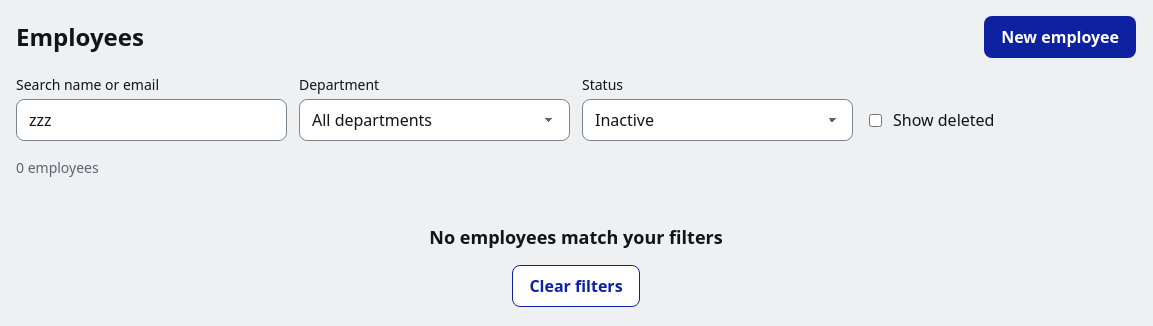
Test: EmployeesPage - empty states › shows "No employees match your filters" and Clear filters resets everything
The width and height of the screenshot is (1153, 326).
Expected: the heading "No employees match your filters" is shown, [429,226,723,248]
Click the button "Clear filters" at (576, 286), box [512,264,640,306]
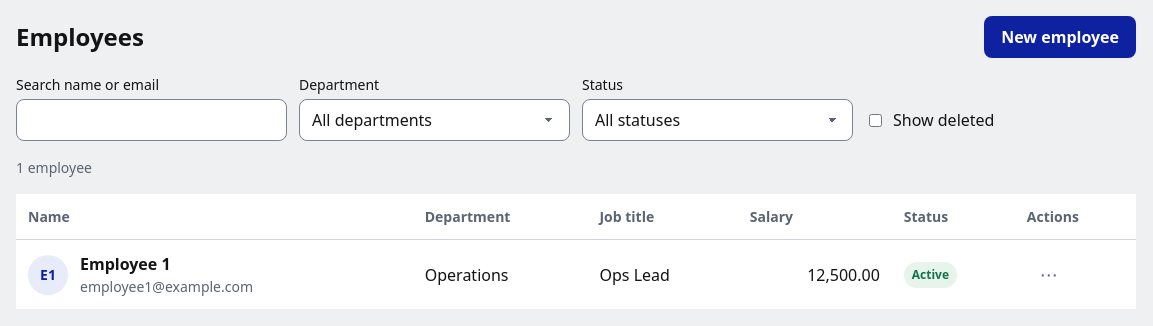
Expected: the table is shown, [16,194,1136,309]
Expected: the field labelled "Search name or email" is empty, [16,99,287,141]
